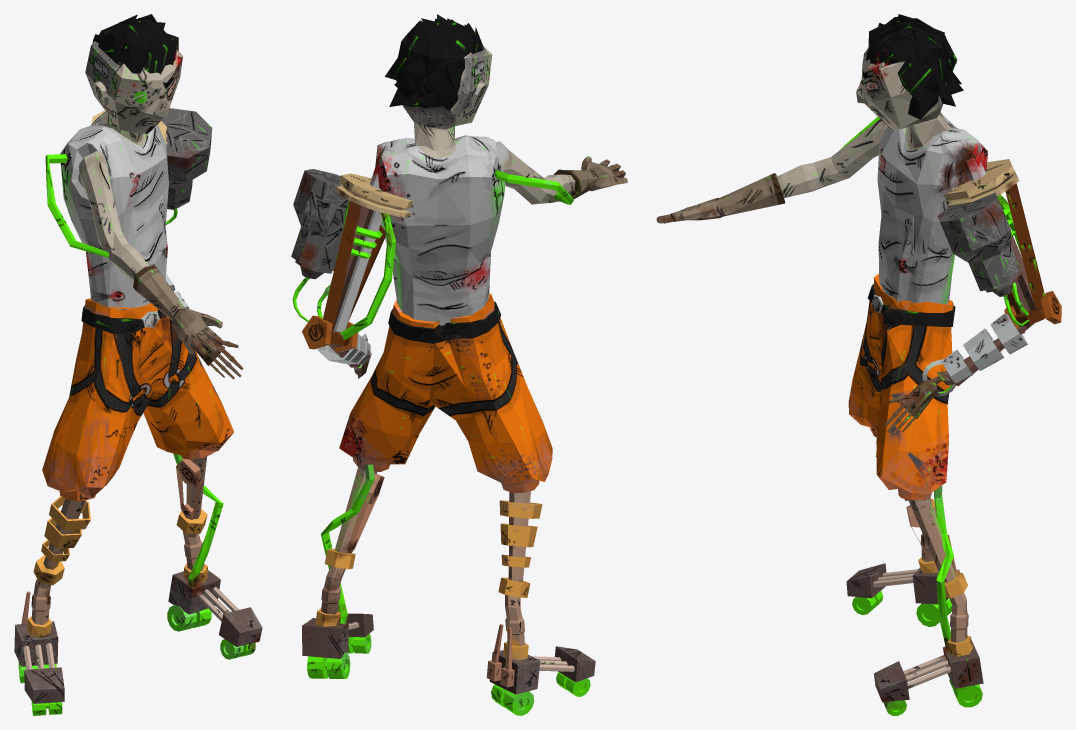
Rendered from CyborgFINALAnimation_000006.obj.
3 renders of one model, left to right at view 1: azimuth 30°, elevation 25°; view 2: azimuth 150°, elevation 25°; view 3: azimuth 270°, elevation 25°, orthographic. The views are drawn at different scales.
Parts seen in each view (by area): view 1: CyborgMesh_Cube.002; view 2: CyborgMesh_Cube.002; view 3: CyborgMesh_Cube.002.
Boxes of the visible parts, left/top/right/bottom form: CyborgMesh_Cube.002: left=14, top=14, right=262, bottom=715; CyborgMesh_Cube.002: left=291, top=14, right=627, bottom=715; CyborgMesh_Cube.002: left=656, top=14, right=1061, bottom=715.
Bounding box in the file's own units: 3.71 × 9.64 × 5.48.
